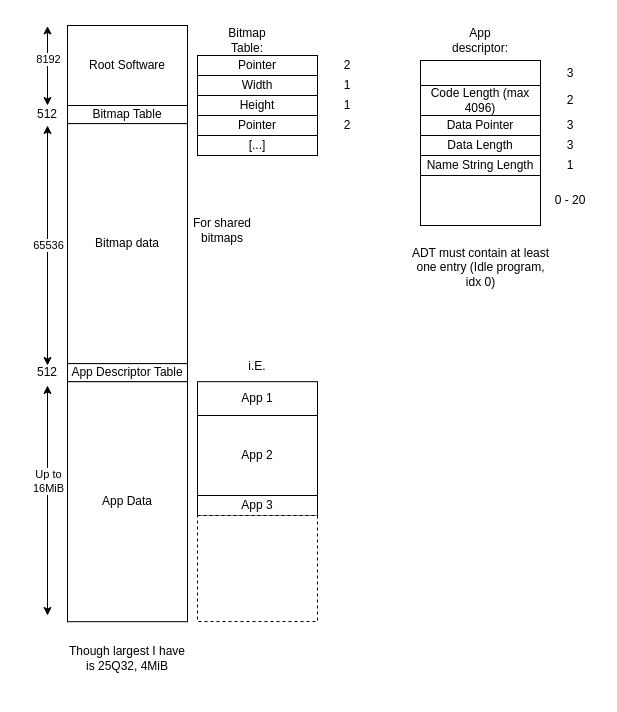
This 617x712 diagram has some shape labels left out. The centre of each missing label's shape, as x and y in pixels:
"Code Pointer" goes at point (480, 73).
"Name" goes at point (480, 200).
"Unused" goes at point (257, 568).
